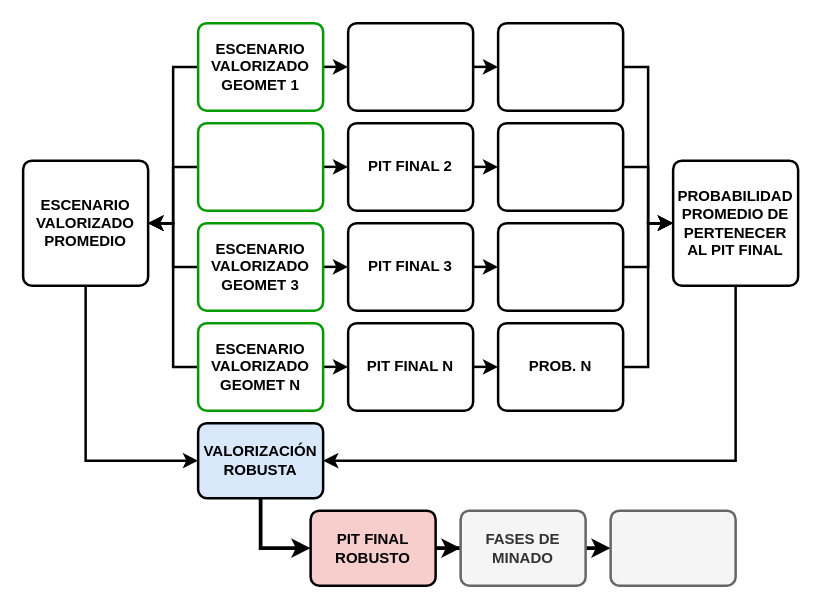
Some shapes in this 820 by 608 pixel diagram are drawn without their labels. The box of each missing label's shape, as (x1, y1, x2, y2) in pixels:
ESCENARIO VALORIZADO GEOMET 2: (196, 121, 324, 211)
PIT FINAL 1: (346, 21, 474, 111)
PLAN MINERO: (609, 509, 736, 586)
PROB. 1: (496, 21, 624, 111)
PROB. 2: (496, 121, 624, 211)
PROB. 3: (496, 221, 624, 311)
